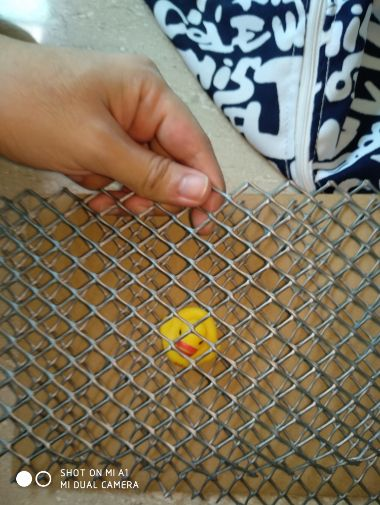unknownObject: (160, 307, 218, 366)
